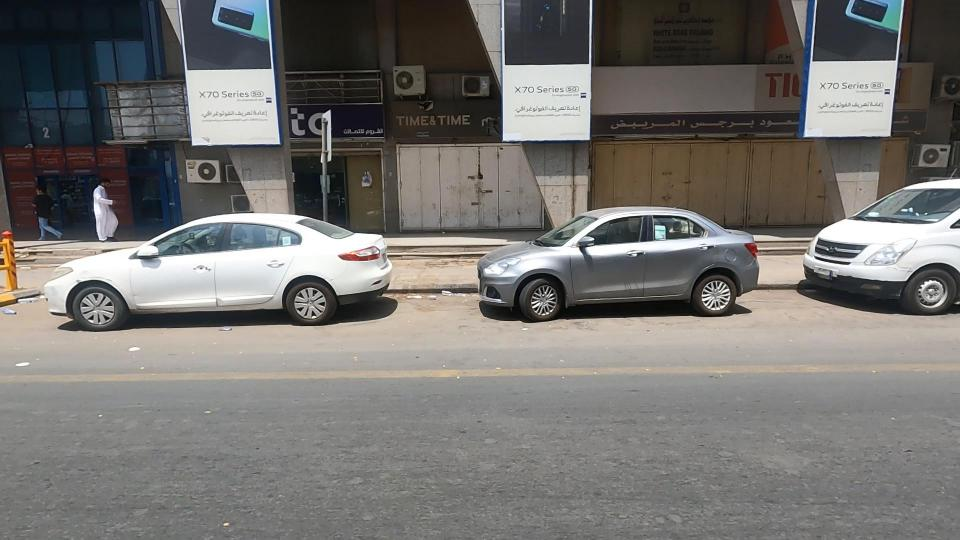BAD_BILLBOARD: (49, 36, 244, 183)
GARBAGE: (0, 275, 58, 317), (0, 284, 32, 347)
